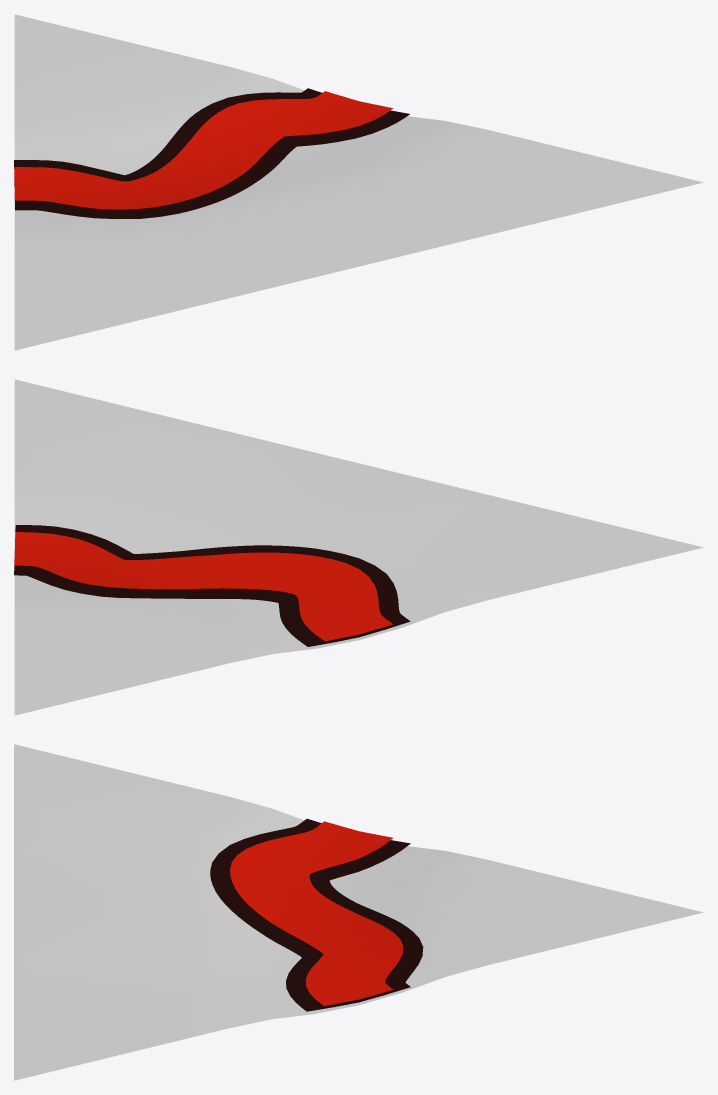
The model's file is MODULE_LAVA_RIVER_BEND.fbx.
The picture shows the model from 3 angles, top to bottom: view 1: azimuth 30°, elevation 25°; view 2: azimuth 150°, elevation 25°; view 3: azimuth 270°, elevation 25°; orthographic projection.
Parts seen in each view (by area): view 1: MODULE_LAVA_RIVER_BEND__export, MODULE_LAVA_RIVER_BEND_DECOR__export; view 2: MODULE_LAVA_RIVER_BEND__export, MODULE_LAVA_RIVER_BEND_DECOR__export; view 3: MODULE_LAVA_RIVER_BEND__export, MODULE_LAVA_RIVER_BEND_DECOR__export.
Part boxes in pixels (<box>): MODULE_LAVA_RIVER_BEND__export: <box>14,14,703,350</box>; MODULE_LAVA_RIVER_BEND_DECOR__export: <box>14,88,409,218</box>; MODULE_LAVA_RIVER_BEND__export: <box>14,379,703,715</box>; MODULE_LAVA_RIVER_BEND_DECOR__export: <box>14,525,410,646</box>; MODULE_LAVA_RIVER_BEND__export: <box>14,744,703,1080</box>; MODULE_LAVA_RIVER_BEND_DECOR__export: <box>210,818,423,1011</box>.
Bounding box in the file's own units: 100 × 1.63 × 86.6.
